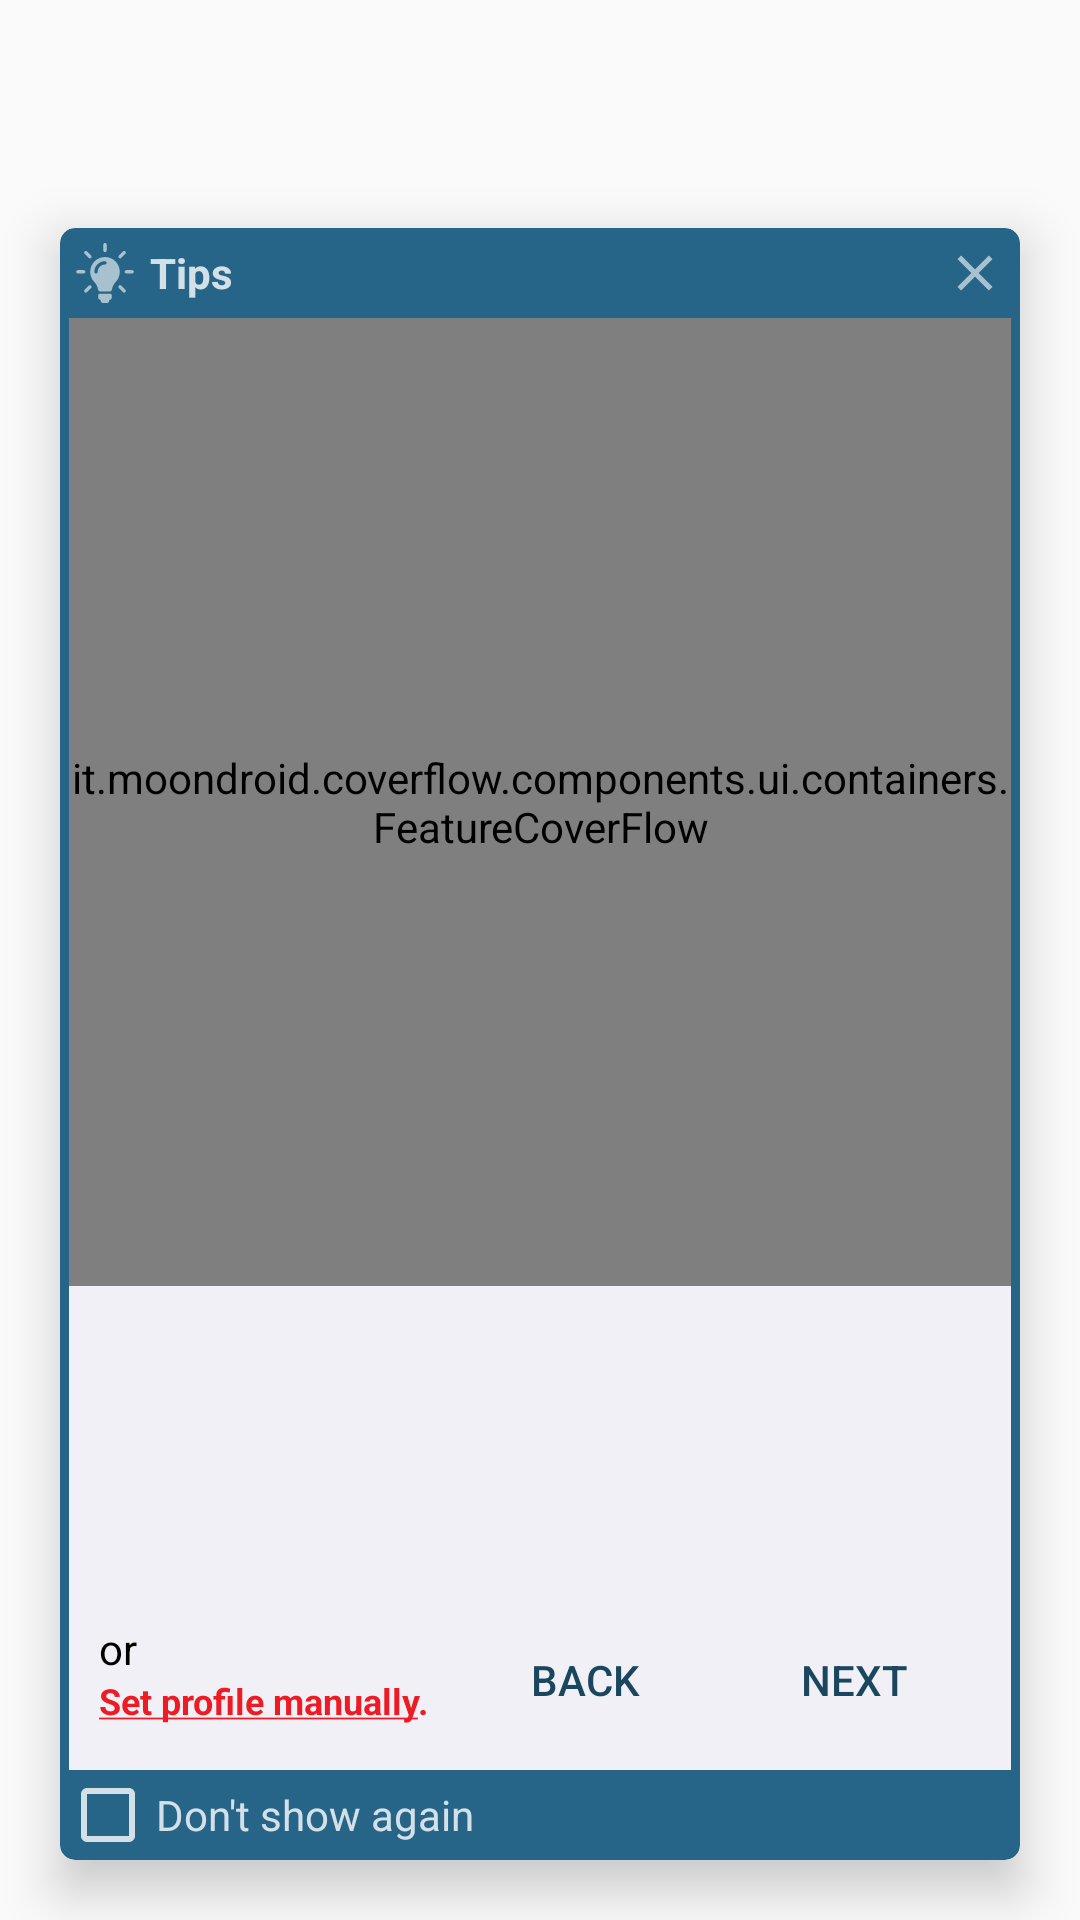

Where to tap for icons on this 1080px x 1920px app screen, as [x,y]:
bulb: [105,273]
close: [975,273]
